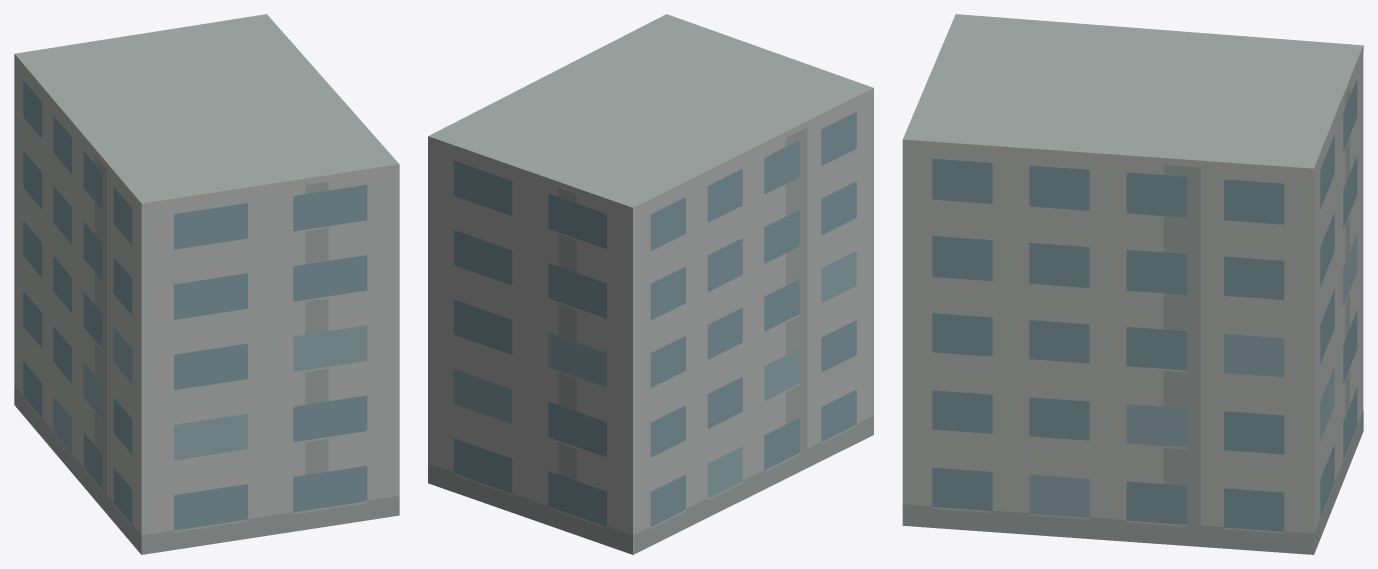
Rendered from survey-upis-32885095.glb.
The picture shows the model from 3 angles, left to right: view 1: azimuth 30°, elevation 25°; view 2: azimuth 150°, elevation 25°; view 3: azimuth 270°, elevation 25°; orthographic projection. The views are drawn at different scales.
Visible parts, largest first — view 1: survey-upis-32885095.tmp; view 2: survey-upis-32885095.tmp; view 3: survey-upis-32885095.tmp.
Boxes of the visible parts, x1=… form: survey-upis-32885095.tmp: x1=14, y1=14, x2=399, y2=554; survey-upis-32885095.tmp: x1=428, y1=14, x2=873, y2=554; survey-upis-32885095.tmp: x1=902, y1=14, x2=1363, y2=554.
Bounding box in the file's own units: 11.34 × 13.2 × 14.28.
